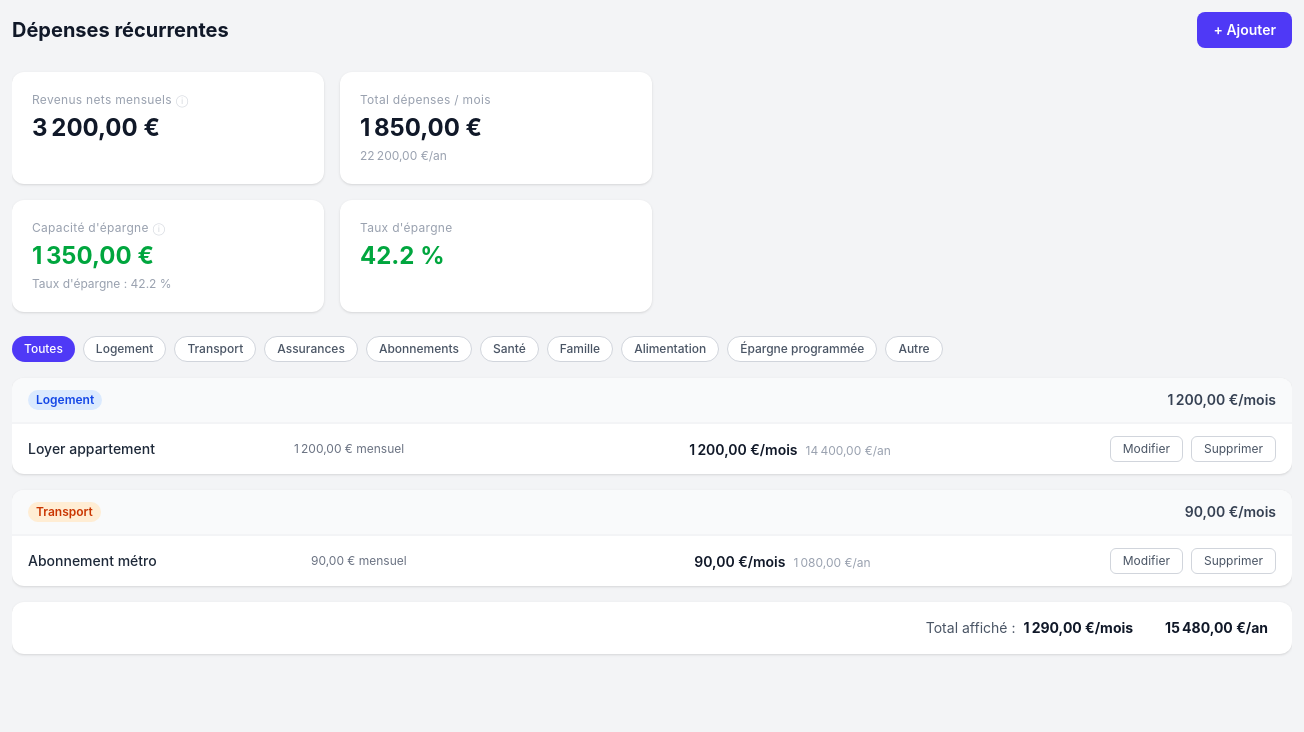
Scenario: RecurringExpensePage — pattern CRUD avec budgets › filtre les dépenses par catégorie
Expected: the text "Loyer appartement" is shown, [12,424,278,474]
Expected: the text "Abonnement métro" is shown, [12,536,295,586]
Step 1. Click the button "Transport" → (215, 349), box [174,336,256,362]
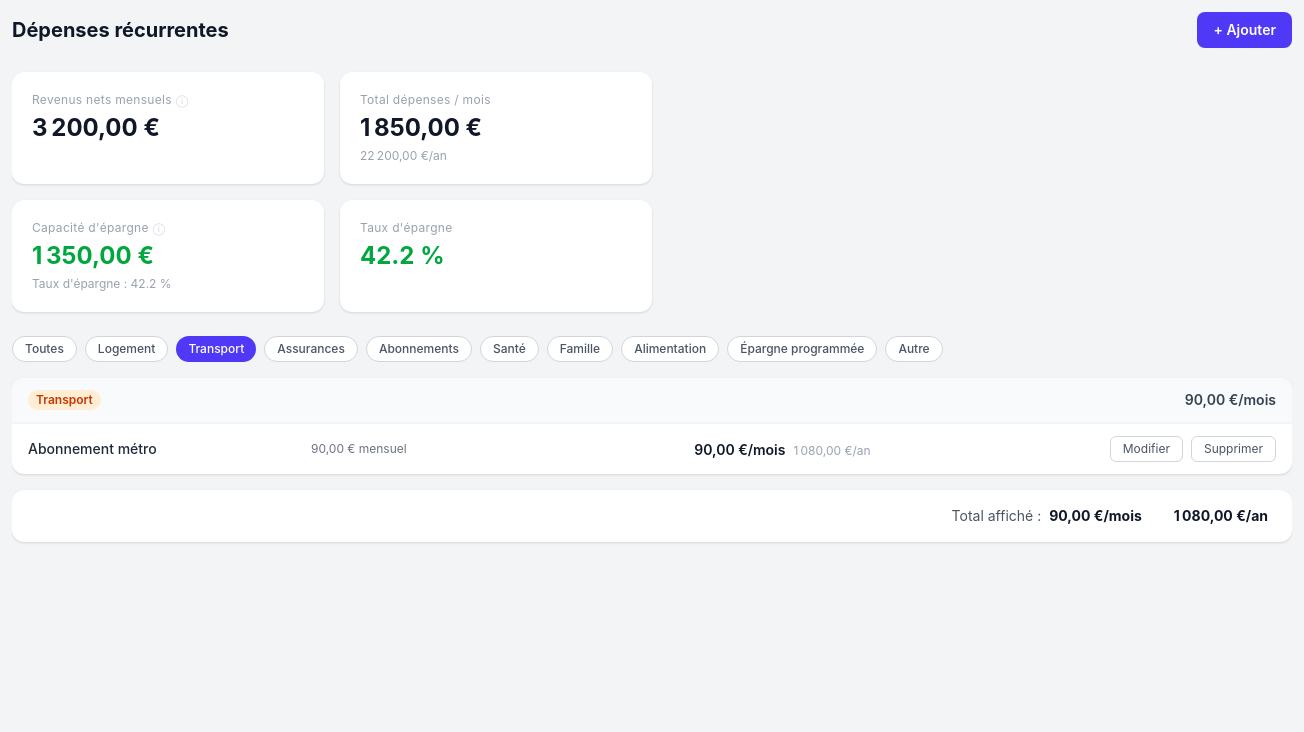
Expected: the text "Abonnement métro" is shown, [12,424,295,474]
Expected: the text "Loyer appartement" is gone
